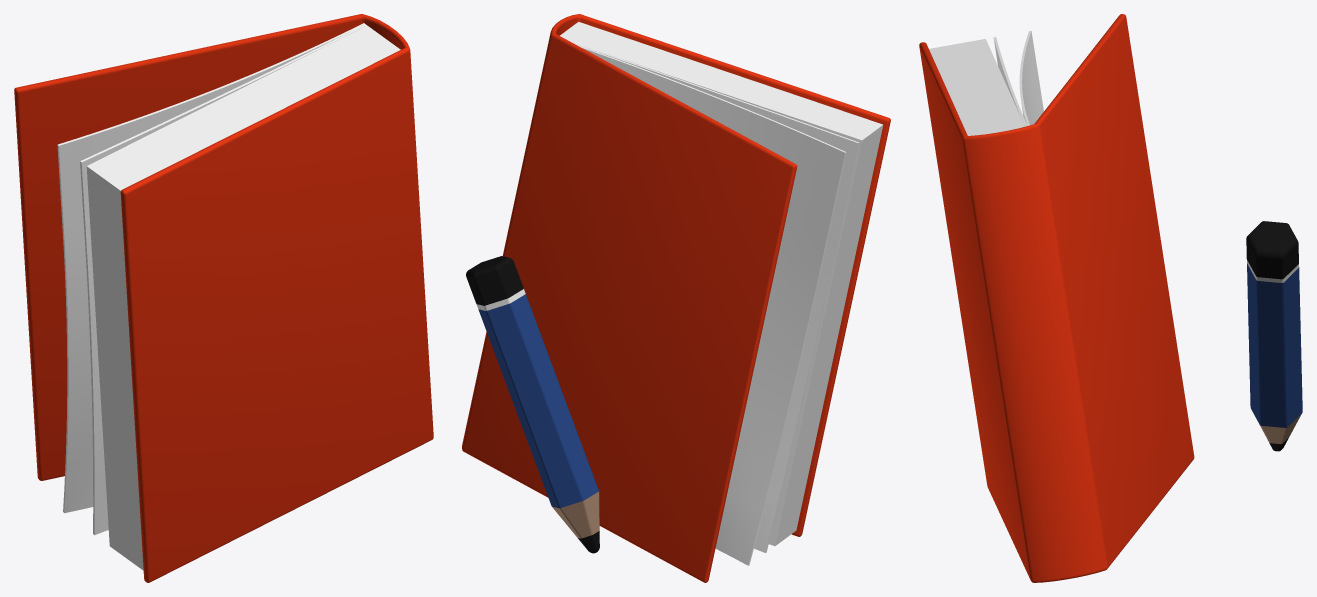
File: book.glb
The picture shows the model from 3 angles, left to right: view 1: azimuth 30°, elevation 25°; view 2: azimuth 150°, elevation 25°; view 3: azimuth 270°, elevation 25°; orthographic projection. The views are drawn at different scales.
Parts seen in each view (by area): view 1: Cover_2, Kertas Tebal_3, Halaman 1_5, Halaman 2_4; view 2: Cover_2, Halaman 1_5, Kertas Tebal_3, Cylinder_1, Halaman 2_4; view 3: Cover_2, Cylinder_1, Kertas Tebal_3, Halaman 1_5.
Boxes of the visible parts, x1,y1,x2,y2 form: Cover_2: (14,14,433,582); Kertas Tebal_3: (86,25,400,570); Halaman 1_5: (57,23,365,513); Halaman 2_4: (80,24,366,535); Cover_2: (462,14,890,582); Halaman 1_5: (577,45,846,565); Kertas Tebal_3: (560,22,883,545); Cylinder_1: (466,256,599,553); Halaman 2_4: (571,42,859,552); Cover_2: (919,14,1194,582); Cylinder_1: (1246,221,1302,451); Kertas Tebal_3: (929,39,1024,135); Halaman 1_5: (1019,30,1043,125).
Bounding box in the file's own units: 0.248 × 0.3073 × 0.2239.
